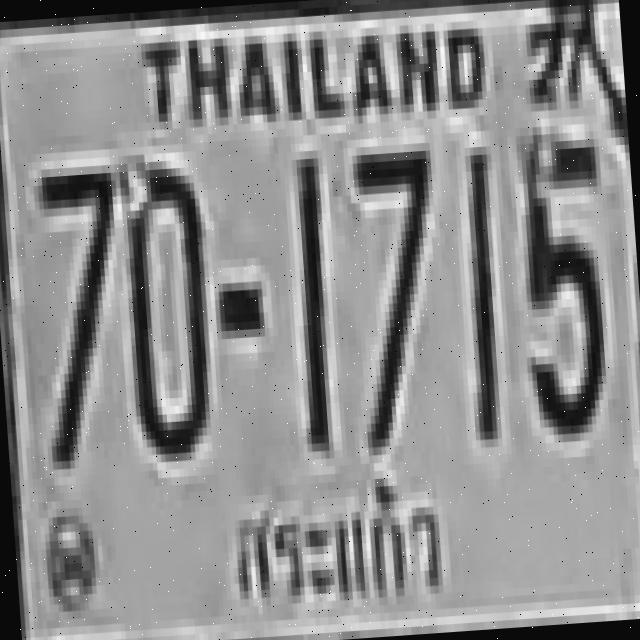0: (114, 151, 212, 456)
1: (287, 150, 333, 444), (455, 142, 501, 436)
5: (511, 127, 614, 432)
7: (30, 164, 132, 462), (347, 142, 446, 447)
SaKaeo: (222, 453, 457, 640)
